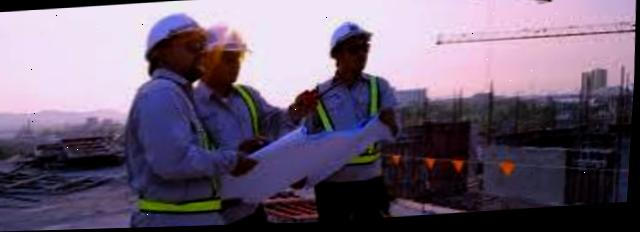helmet: (141, 11, 206, 57), (323, 19, 376, 53), (199, 20, 248, 53)
vest: (123, 79, 227, 219), (300, 72, 383, 170), (190, 79, 270, 160)
